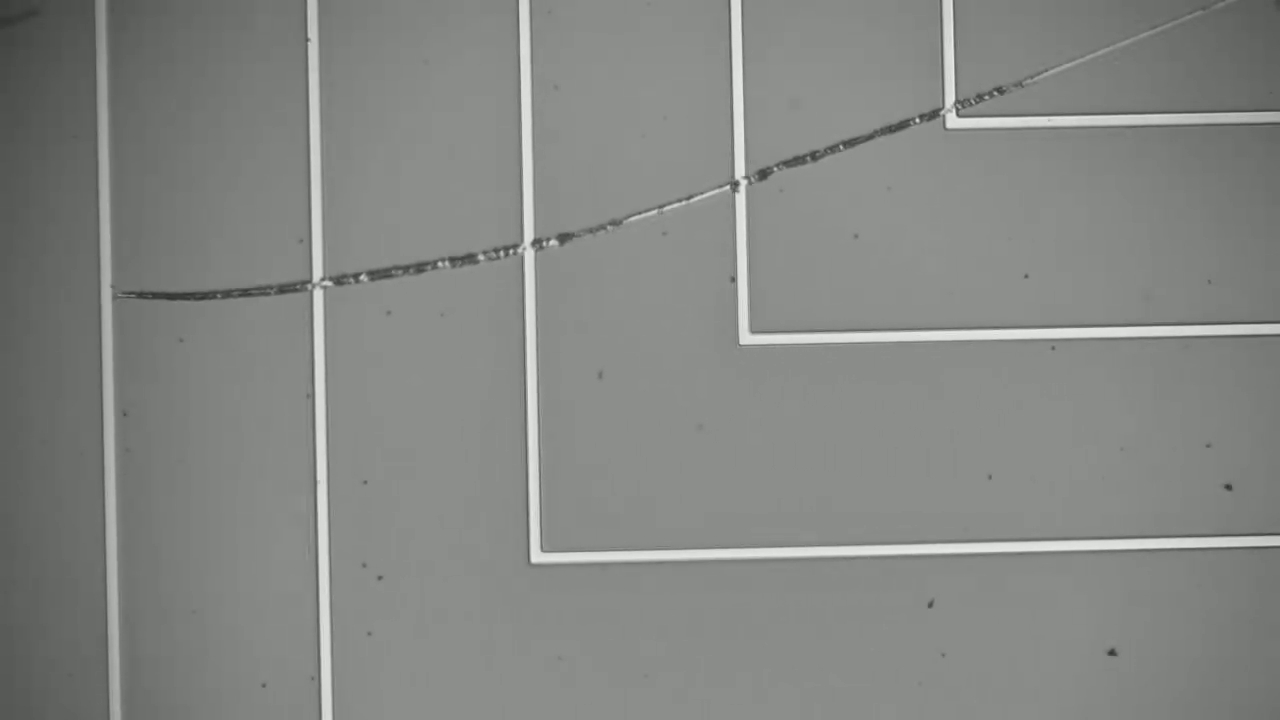scratch: (121, 1, 1237, 320)
